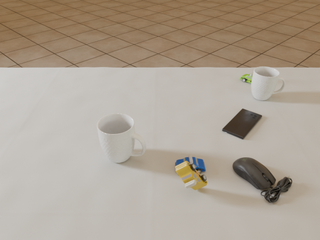cup: (97, 113, 146, 163), (251, 67, 285, 100)
mouse: (233, 157, 292, 202)
phone: (222, 109, 262, 139)
toy_car: (175, 161, 207, 190), (175, 155, 206, 173), (240, 72, 253, 83)
